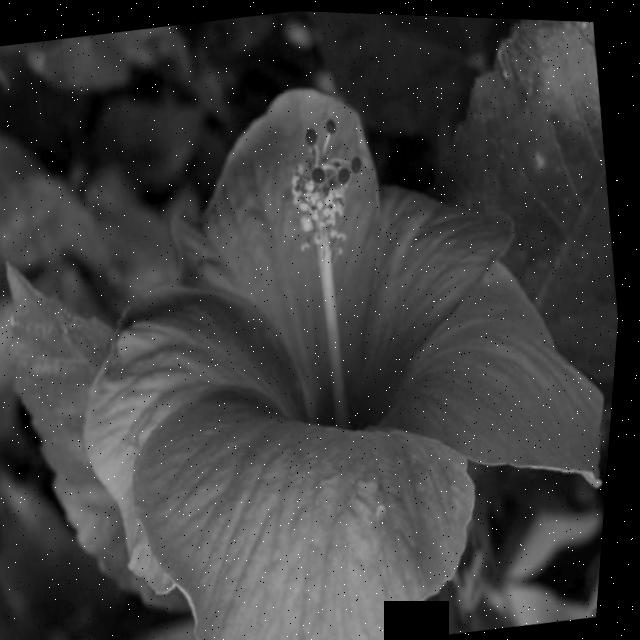hibiscus: (8, 20, 639, 640)
